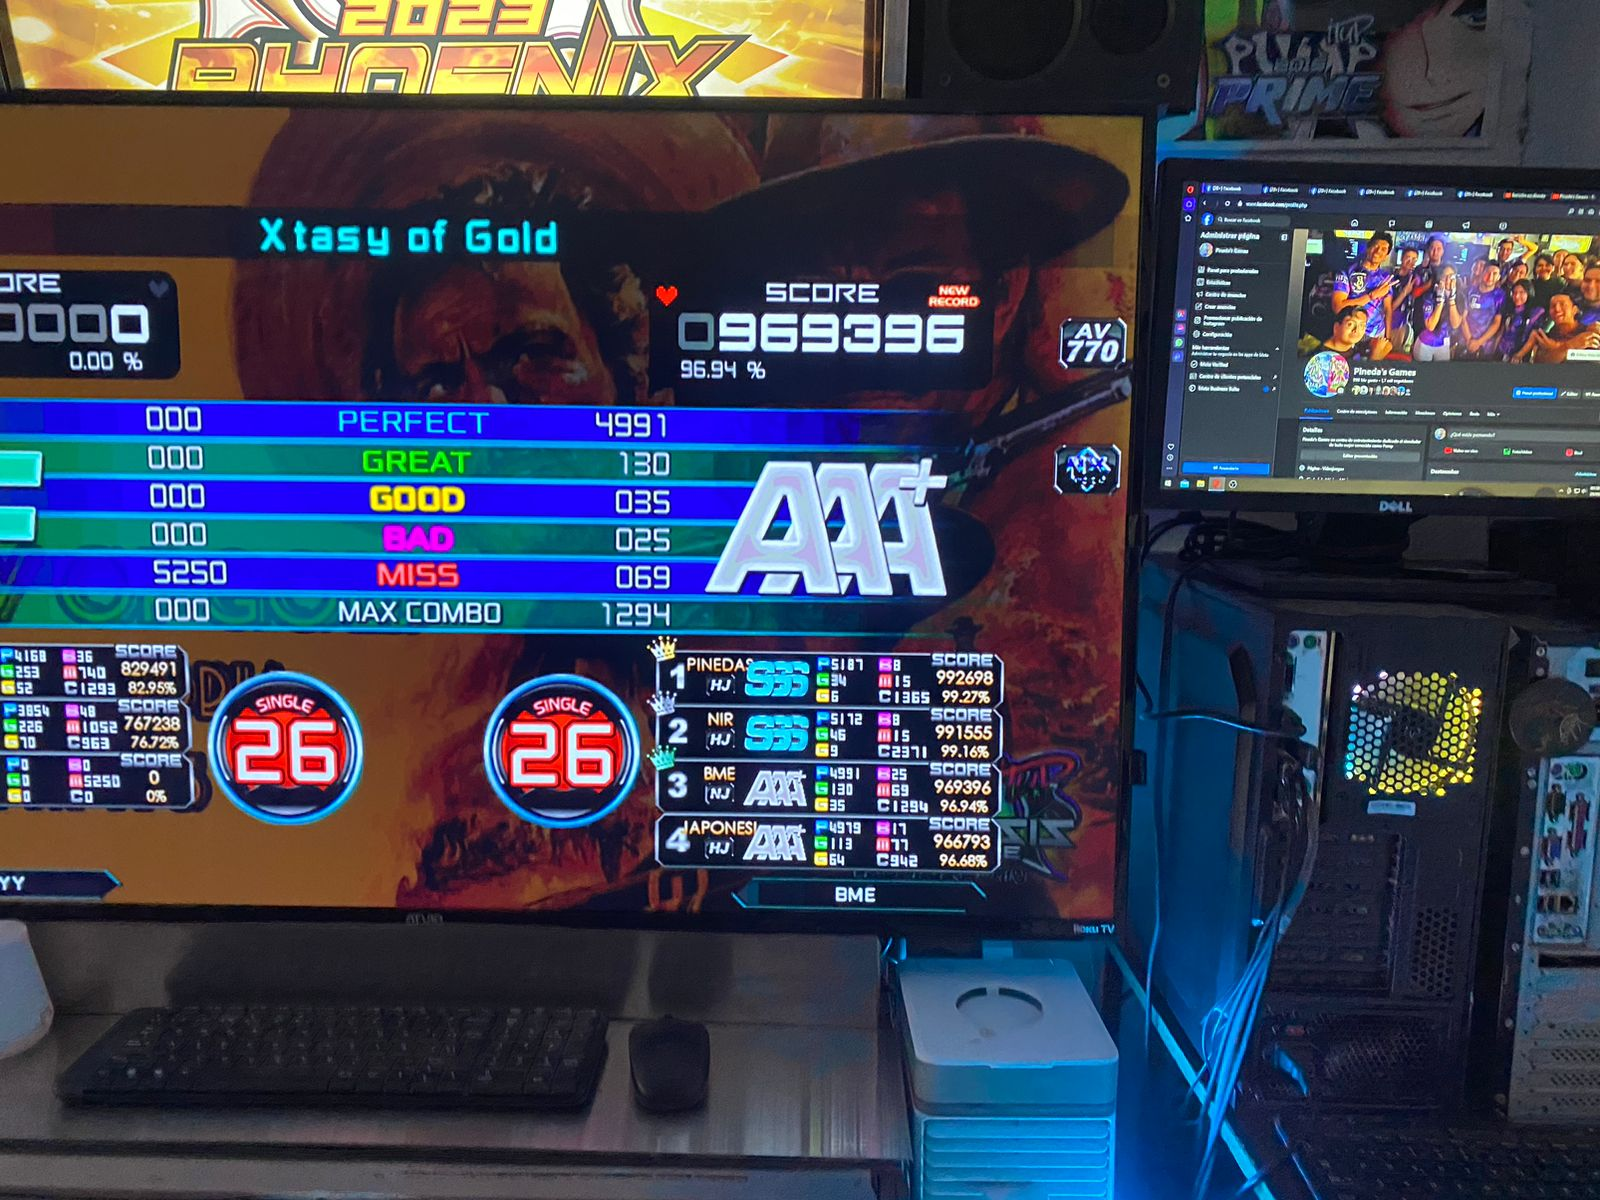difficulty: (417, 638, 631, 821)
fullscore: (10, 96, 1139, 945)
rank: (688, 417, 999, 608)
score: (651, 272, 985, 392)
song_name: (256, 199, 654, 266)
